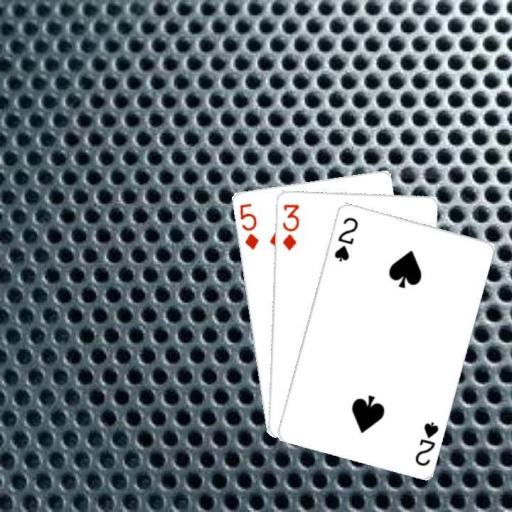2S: (331, 213, 360, 263), (412, 418, 440, 468)
3D: (279, 201, 301, 252)
5D: (236, 200, 261, 251)
